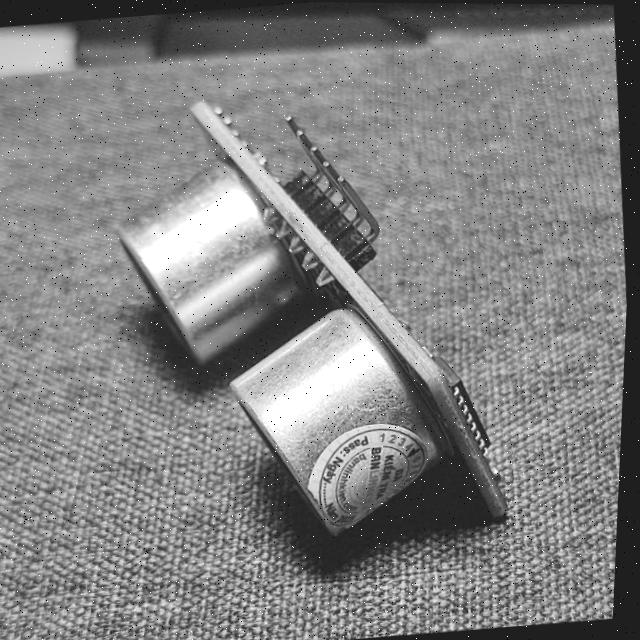Ultrasonic Sensor: (28, 38, 616, 636)
